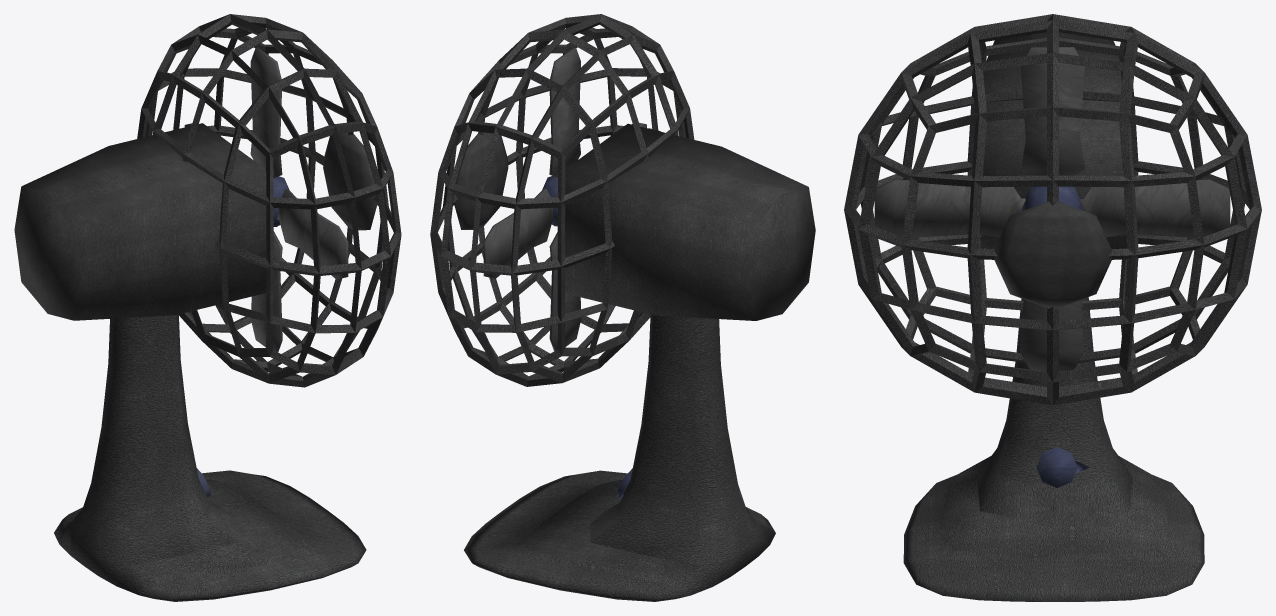
File: desk_fan.glb
3 renders of one model, left to right at view 1: azimuth 30°, elevation 25°; view 2: azimuth 150°, elevation 25°; view 3: azimuth 270°, elevation 25°, orthographic. The views are drawn at different scales.
Parts seen in each view (by area): view 1: Body1_9, Body2_8, Body3_1, Body4_0, blade.001_2, blade.002_3, blade_5; view 2: Body1_9, Body2_8, Body3_1, Body4_0, blade.003_4, blade.002_3, blade_5; view 3: Body3_1, Body1_9, Body4_0, Body2_8, blade.001_2, blade.003_4, blade.002_3, blade_5, Button_10, FanPart_7.
Boxes of the visible parts, x1,y1,x2,y2 form: Body1_9: (54, 314, 366, 601); Body2_8: (14, 123, 266, 320); Body3_1: (137, 14, 401, 387); Body4_0: (323, 132, 377, 230); blade.001_2: (277, 189, 348, 279); blade.002_3: (250, 47, 282, 177); blade_5: (251, 231, 282, 352); Body1_9: (464, 314, 775, 601); Body2_8: (565, 123, 815, 320); Body3_1: (430, 14, 694, 386); Body4_0: (454, 132, 508, 229); blade.003_4: (483, 188, 554, 278); blade.002_3: (549, 47, 580, 177); blade_5: (549, 232, 581, 351); Body3_1: (844, 14, 1261, 405); Body1_9: (903, 297, 1204, 601); Body4_0: (994, 201, 1112, 308); Body2_8: (980, 32, 1127, 248); blade.001_2: (874, 179, 1025, 237); blade.003_4: (1079, 179, 1230, 237); blade.002_3: (1021, 47, 1084, 175); blade_5: (1020, 299, 1083, 370); Button_10: (1036, 447, 1090, 487); FanPart_7: (1021, 186, 1083, 210).
Bounding box in the file's own units: 0.46 × 0.6857 × 0.4665.
3 materials, 3 textured.
